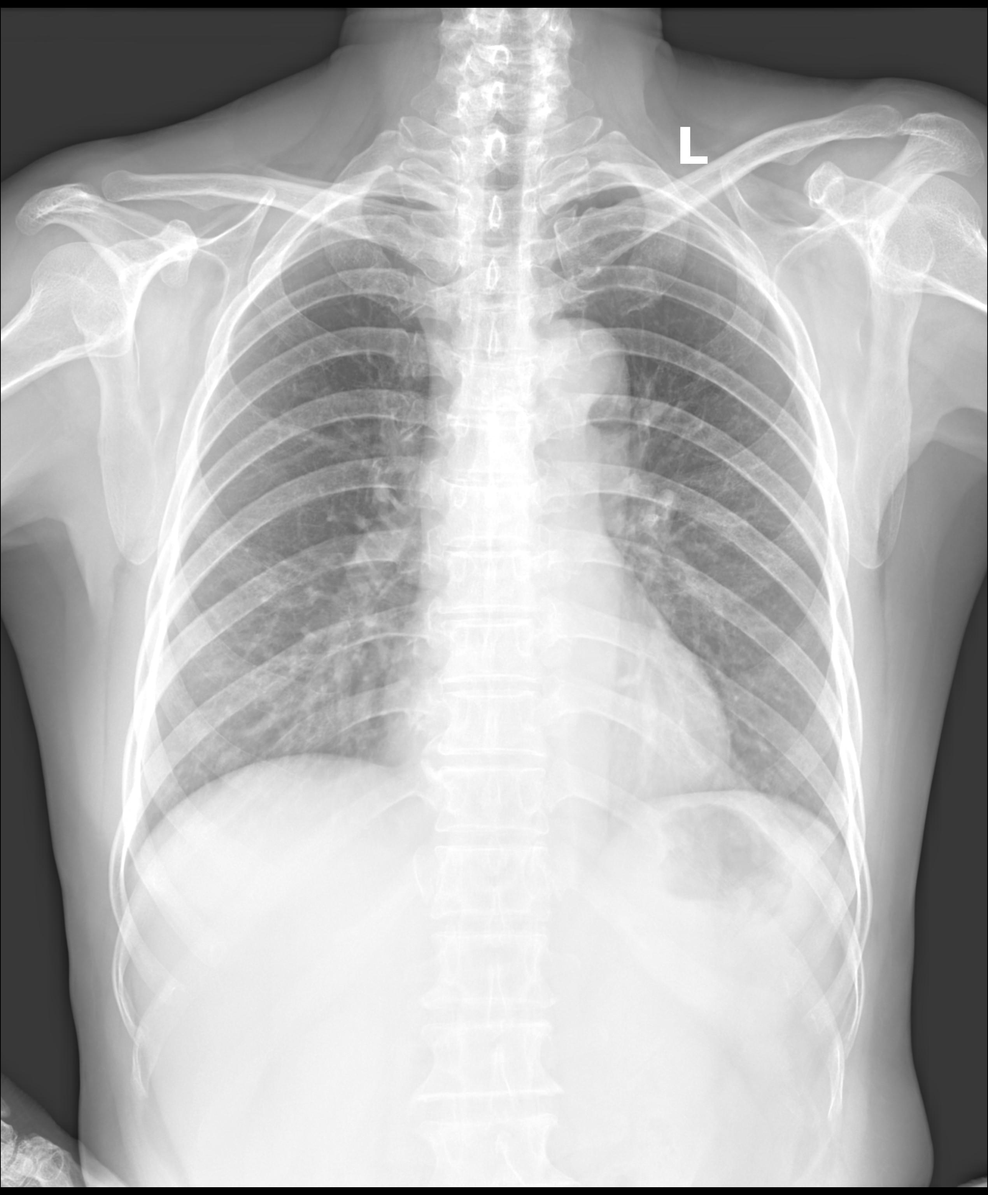Aortic enlargement: (526, 321, 630, 422)
